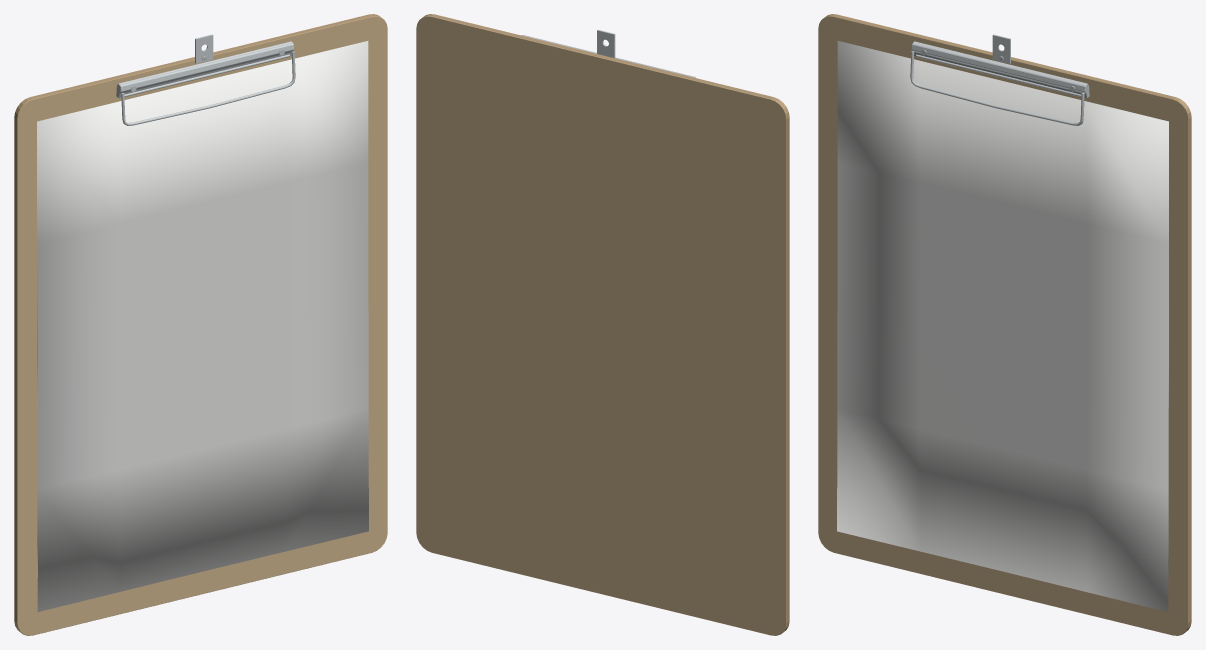
The model's file is Clipboard.fbx.
3 renders of one model, left to right at view 1: azimuth 30°, elevation 25°; view 2: azimuth 150°, elevation 25°; view 3: azimuth 330°, elevation 25°, orthographic.
Parts seen in each view (by area): view 1: Paper_A4, Board, Spring_clip, Wire_lever; view 2: Board; view 3: Paper_A4, Board, Spring_clip, Wire_lever.
Boxes of the visible parts, x1,y1,x2,y2 form: Paper_A4: (37,41,368,611); Board: (14,14,387,635); Spring_clip: (116,41,294,98); Wire_lever: (121,51,295,125); Board: (416,14,789,635); Paper_A4: (837,41,1168,611); Board: (818,14,1191,635); Spring_clip: (911,41,1089,98); Wire_lever: (910,51,1084,125).
Bounding box in the file's own units: 0.235 × 0.3385 × 0.0122.
